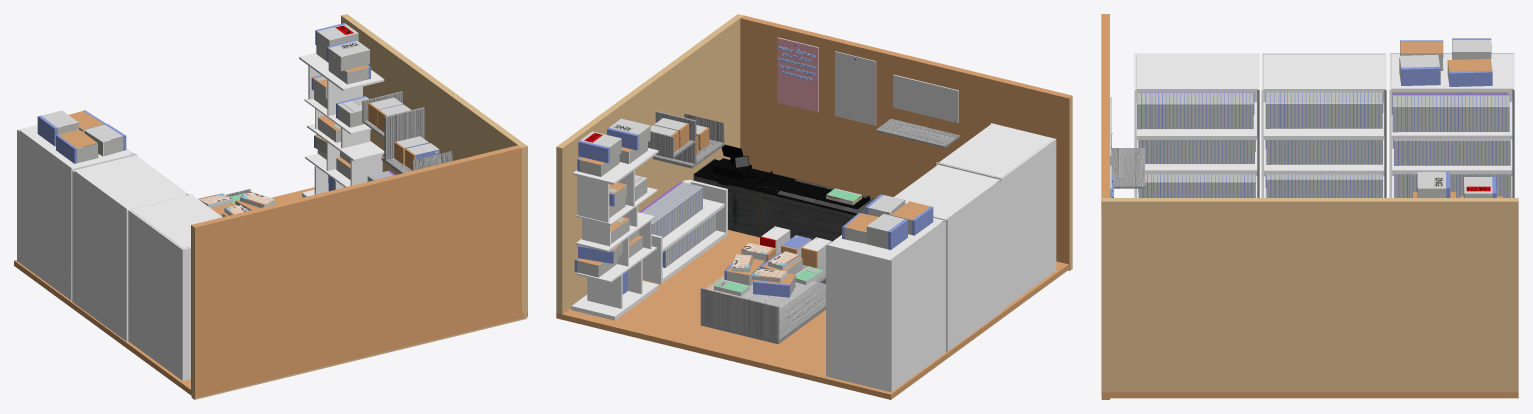
The model's file is work_model_4.glb.
3 renders of one model, left to right at view 1: azimuth 30°, elevation 25°; view 2: azimuth 150°, elevation 25°; view 3: azimuth 270°, elevation 25°, orthographic. The views are drawn at different scales.
Parts seen in each view (by area): view 1: Cube; view 2: Cube; view 3: Cube.
Boxes of the visible parts, x1,y1,x2,y2 form: Cube: [14, 14, 527, 399]; Cube: [556, 14, 1072, 399]; Cube: [1101, 14, 1518, 399].
Bounding box in the file's own units: 21.53 × 10.73 × 20.23.
26 materials, 4 textured.
